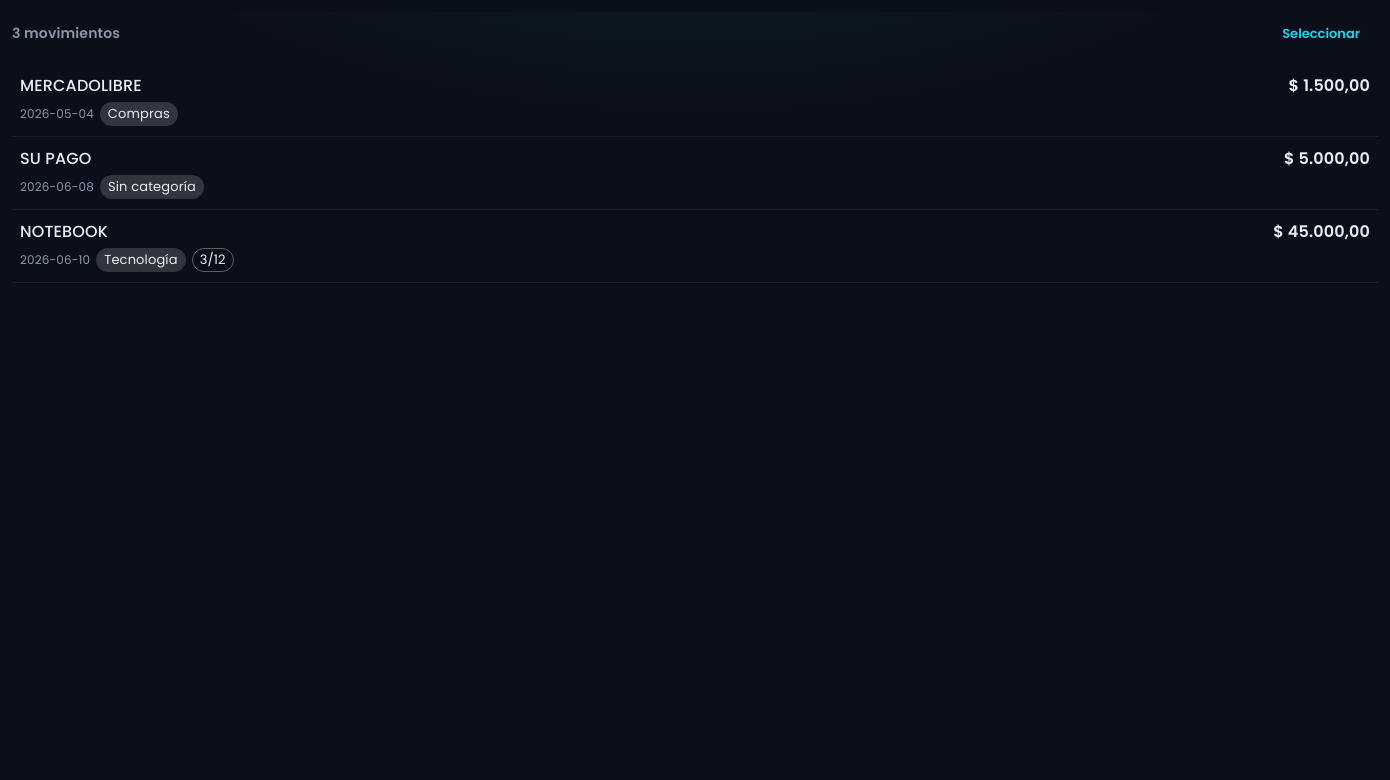
TransactionsList › en modo selección, tocar la fila la marca y no abre la hoja
Click the button "Seleccionar".
click(1321, 34)  # box [1264,12,1378,56]
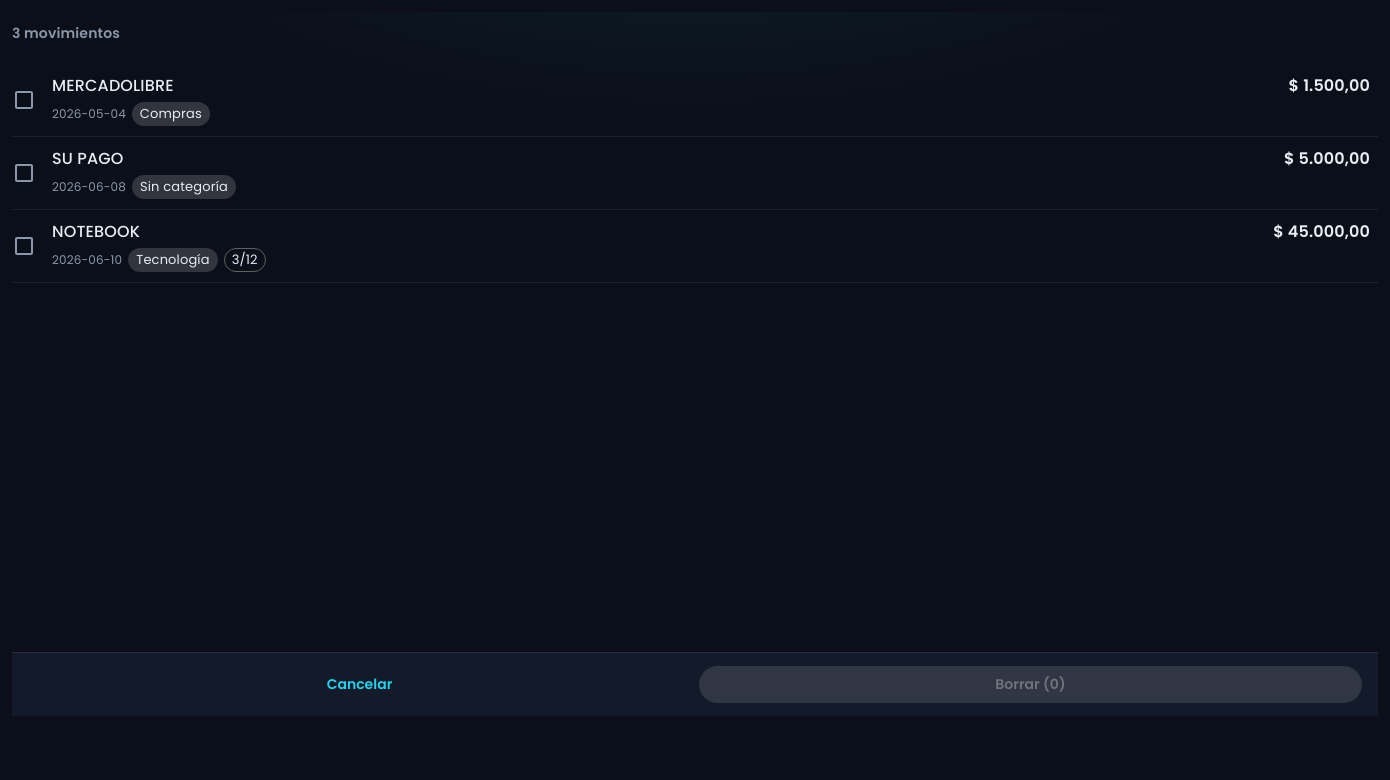
Click the button "SU PAGO $ 5.000,00 2026-06-08 Sin categoría".
click(88, 158)  # box [12,137,1378,209]
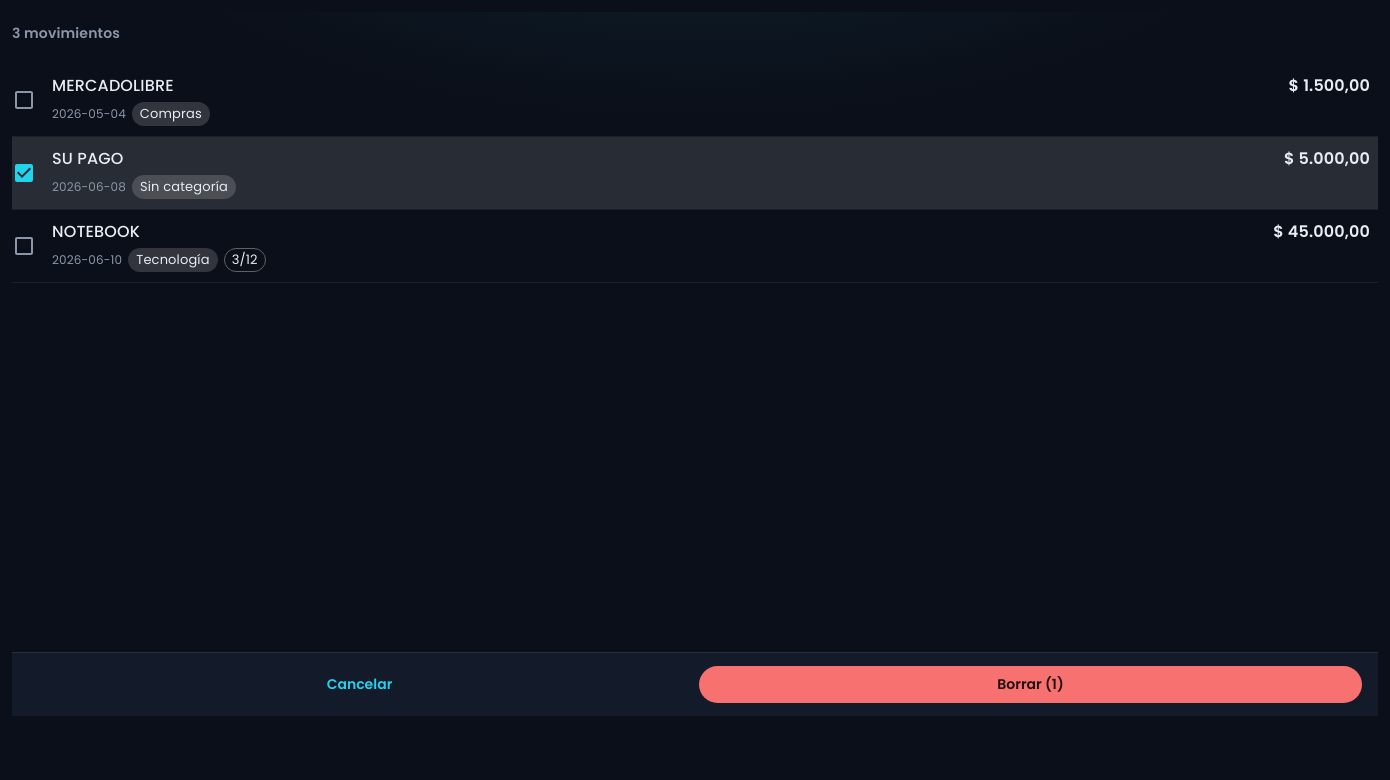
Expected: the checkbox named "seleccionar SU PAGO" is checked, [12,161,36,185]
Expected: the button "Borrar (1)" is enabled, [699,666,1362,703]
